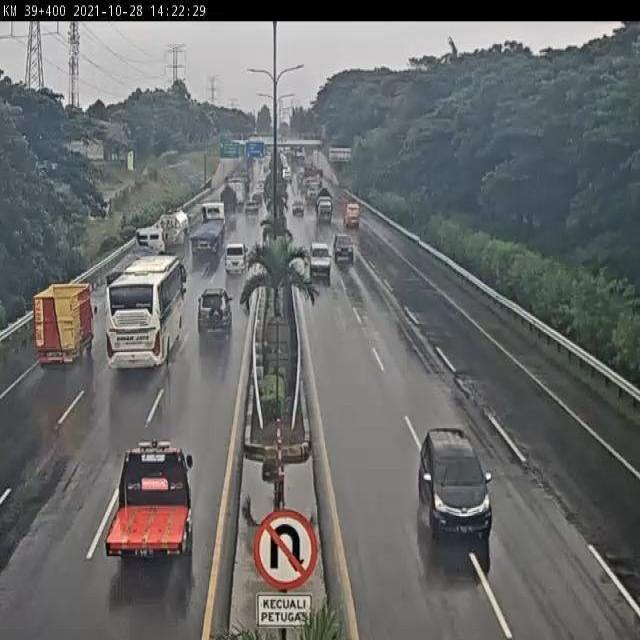bus-l-: (106, 256, 185, 367)
car: (417, 424, 496, 548), (196, 290, 232, 338), (222, 239, 252, 280), (307, 241, 332, 279), (332, 231, 354, 260)
truck-m-: (150, 208, 186, 253)
truck-s-: (99, 440, 192, 559), (32, 278, 98, 370)
truck-xl-: (102, 230, 165, 290), (185, 200, 227, 261)
